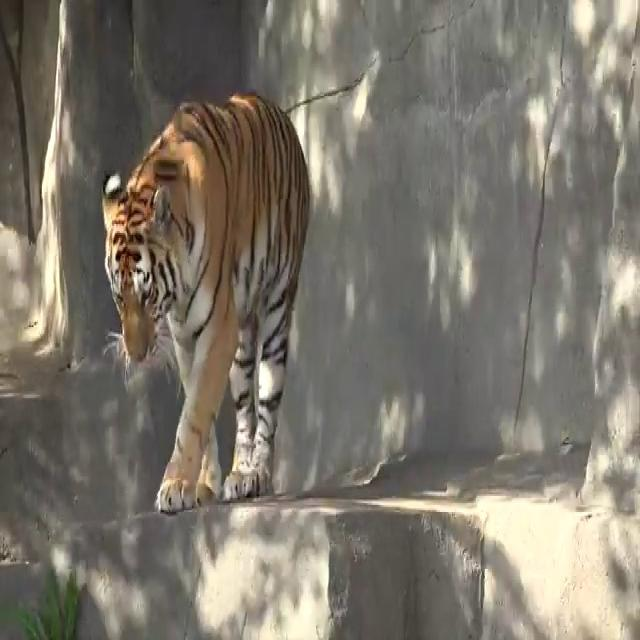tiger: (98, 90, 316, 514)
